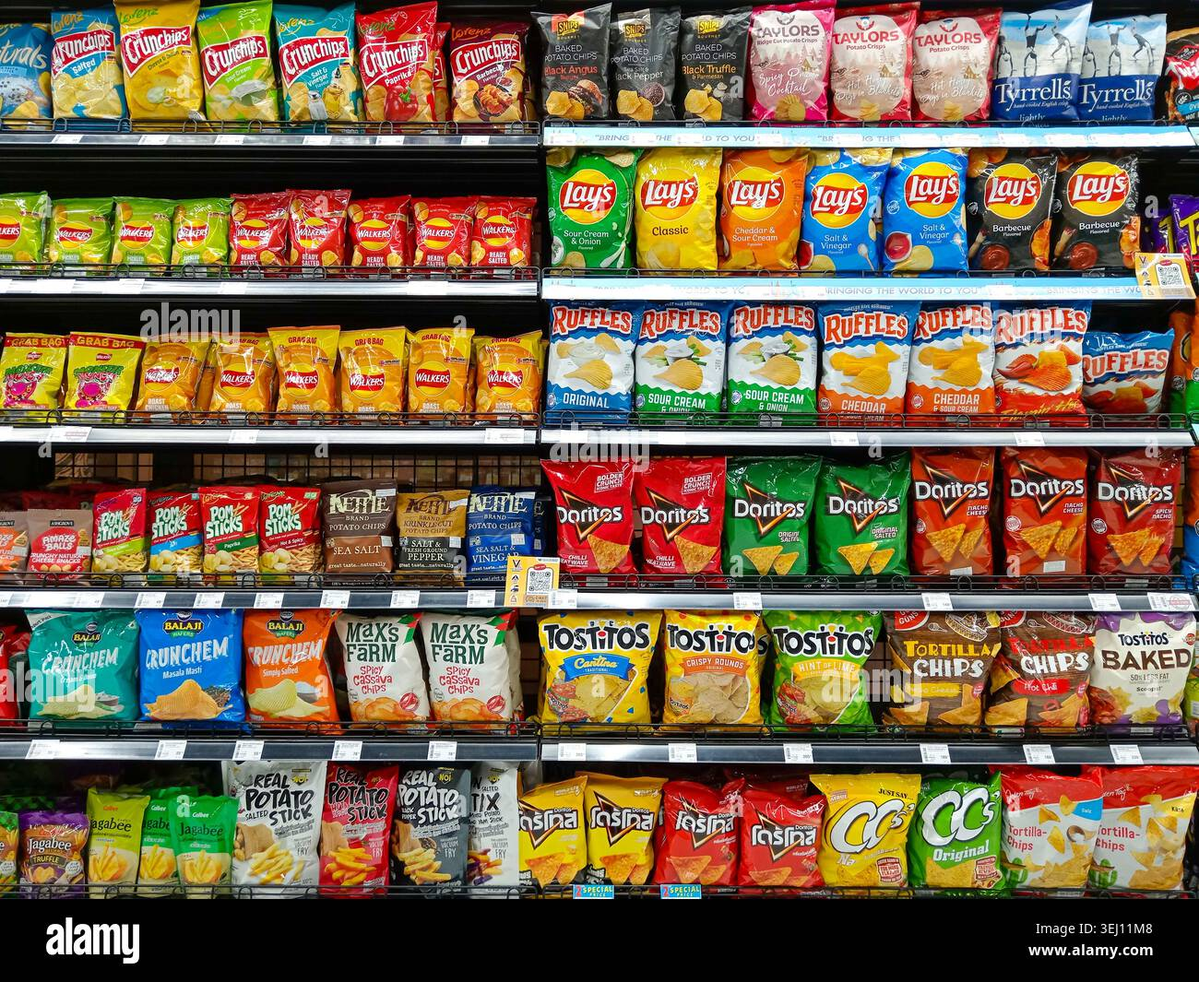snacks: (544, 300, 641, 425), (724, 457, 821, 579), (546, 146, 636, 273), (725, 301, 818, 423), (267, 322, 338, 418), (410, 195, 476, 278), (171, 196, 235, 278)
